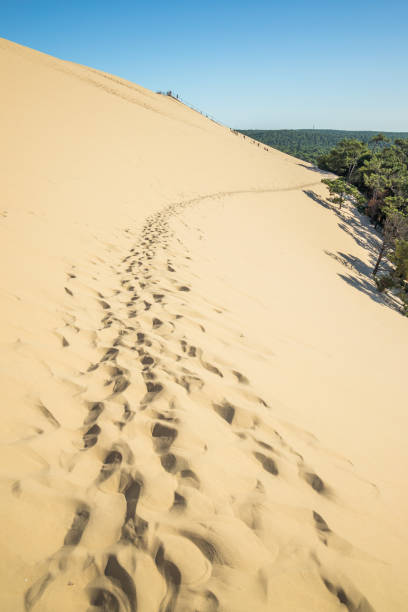human_foot_print: (25, 201, 371, 611)
